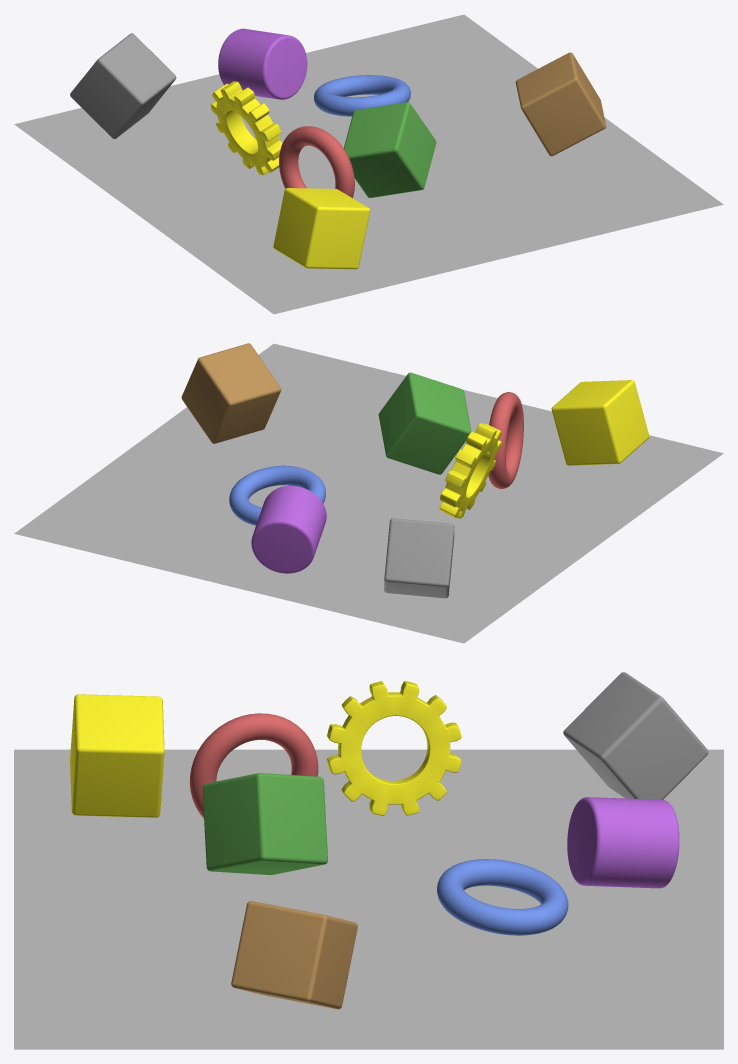
3 renders of one model, top to bottom at view 1: azimuth 30°, elevation 25°; view 2: azimuth 150°, elevation 25°; view 3: azimuth 270°, elevation 25°, orthographic. The views are drawn at different scales.
Parts seen in each view (by area): view 1: Cube, FileBasedObject.002, FileBasedObject.004, FileBasedObject.007, FileBasedObject.001, FileBasedObject.006, FileBasedObject.005, FileBasedObject.003, FileBasedObject; view 2: Cube, FileBasedObject.001, FileBasedObject.002, FileBasedObject.004, FileBasedObject.006, FileBasedObject.007, FileBasedObject.005, FileBasedObject.003, FileBasedObject; view 3: Cube, FileBasedObject.002, FileBasedObject.004, FileBasedObject.007, FileBasedObject.001, FileBasedObject.006, FileBasedObject.005, FileBasedObject.003, FileBasedObject.
Boxes of the visible parts, bbox=[...] form: Cube: bbox=[14, 14, 723, 314]; FileBasedObject.002: bbox=[343, 102, 436, 197]; FileBasedObject.004: bbox=[273, 188, 370, 269]; FileBasedObject.007: bbox=[70, 33, 176, 138]; FileBasedObject.001: bbox=[515, 52, 606, 156]; FileBasedObject.006: bbox=[218, 28, 307, 99]; FileBasedObject.005: bbox=[210, 81, 282, 175]; FileBasedObject.003: bbox=[314, 75, 410, 116]; FileBasedObject: bbox=[279, 126, 354, 198]; Cube: bbox=[14, 343, 723, 643]; FileBasedObject.001: bbox=[181, 343, 281, 443]; FileBasedObject.002: bbox=[378, 372, 471, 474]; FileBasedObject.004: bbox=[551, 380, 649, 465]; FileBasedObject.006: bbox=[251, 485, 326, 573]; FileBasedObject.007: bbox=[384, 518, 454, 598]; FileBasedObject.005: bbox=[439, 423, 501, 518]; FileBasedObject.003: bbox=[229, 465, 325, 525]; FileBasedObject: bbox=[488, 392, 523, 488]; Cube: bbox=[14, 749, 723, 1049]; FileBasedObject.002: bbox=[202, 773, 327, 874]; FileBasedObject.004: bbox=[70, 694, 164, 817]; FileBasedObject.007: bbox=[563, 672, 708, 799]; FileBasedObject.001: bbox=[231, 901, 357, 1009]; FileBasedObject.006: bbox=[567, 797, 679, 888]; FileBasedObject.005: bbox=[327, 681, 461, 815]; FileBasedObject.003: bbox=[437, 859, 568, 935]; FileBasedObject: bbox=[189, 713, 318, 818].
Bounding box in the file's own units: 8 × 1.72 × 8.
